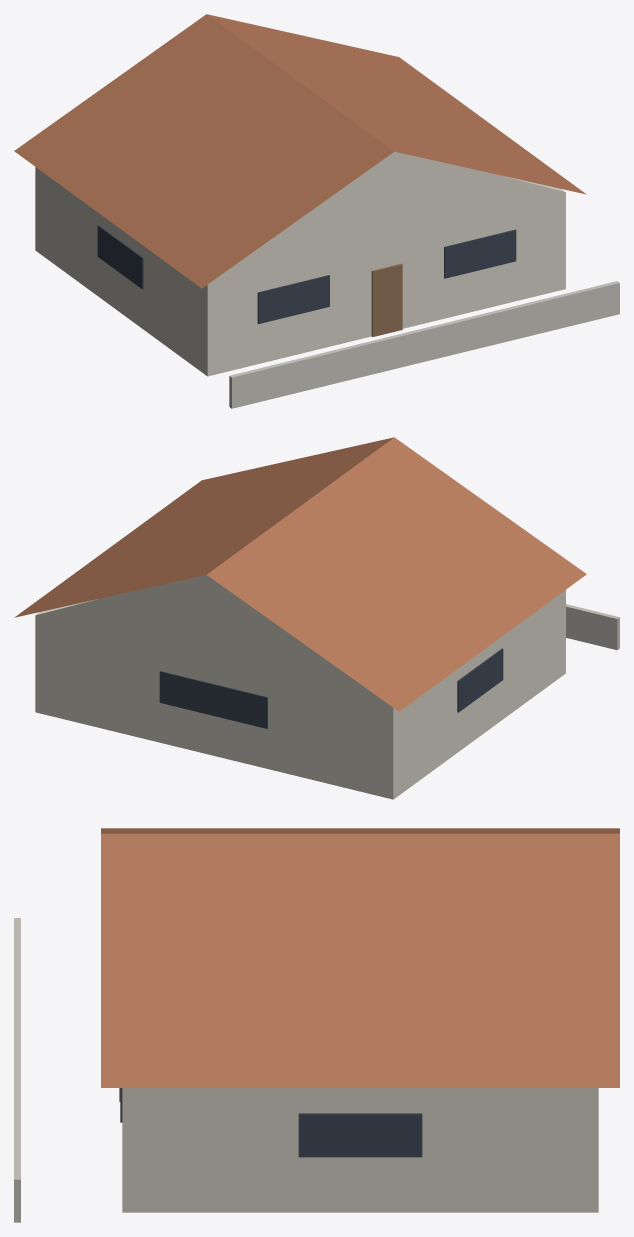
Rendered from casa_4.glb.
The picture shows the model from 3 angles, top to bottom: view 1: azimuth 30°, elevation 25°; view 2: azimuth 150°, elevation 25°; view 3: azimuth 270°, elevation 25°; orthographic projection. The views are drawn at different scales.
Parts seen in each view (by area): view 1: t, w, mu, j, por; view 2: t, w, j, mu; view 3: t, w, j, mu.
Boxes of the visible parts, x1,y1,x2,y2 form: t: (14,14,586,288); w: (35,151,565,376); mu: (229,281,619,408); j: (97,225,516,323); por: (371,263,402,336); t: (14,437,586,711); w: (35,575,565,799); j: (159,648,503,728); mu: (566,604,619,650); t: (101,828,619,1087); w: (122,1088,598,1212); j: (120,1088,422,1157); mu: (14,918,20,1222).
Size of the model in its own units: 13 by 5.98 by 12.72.
